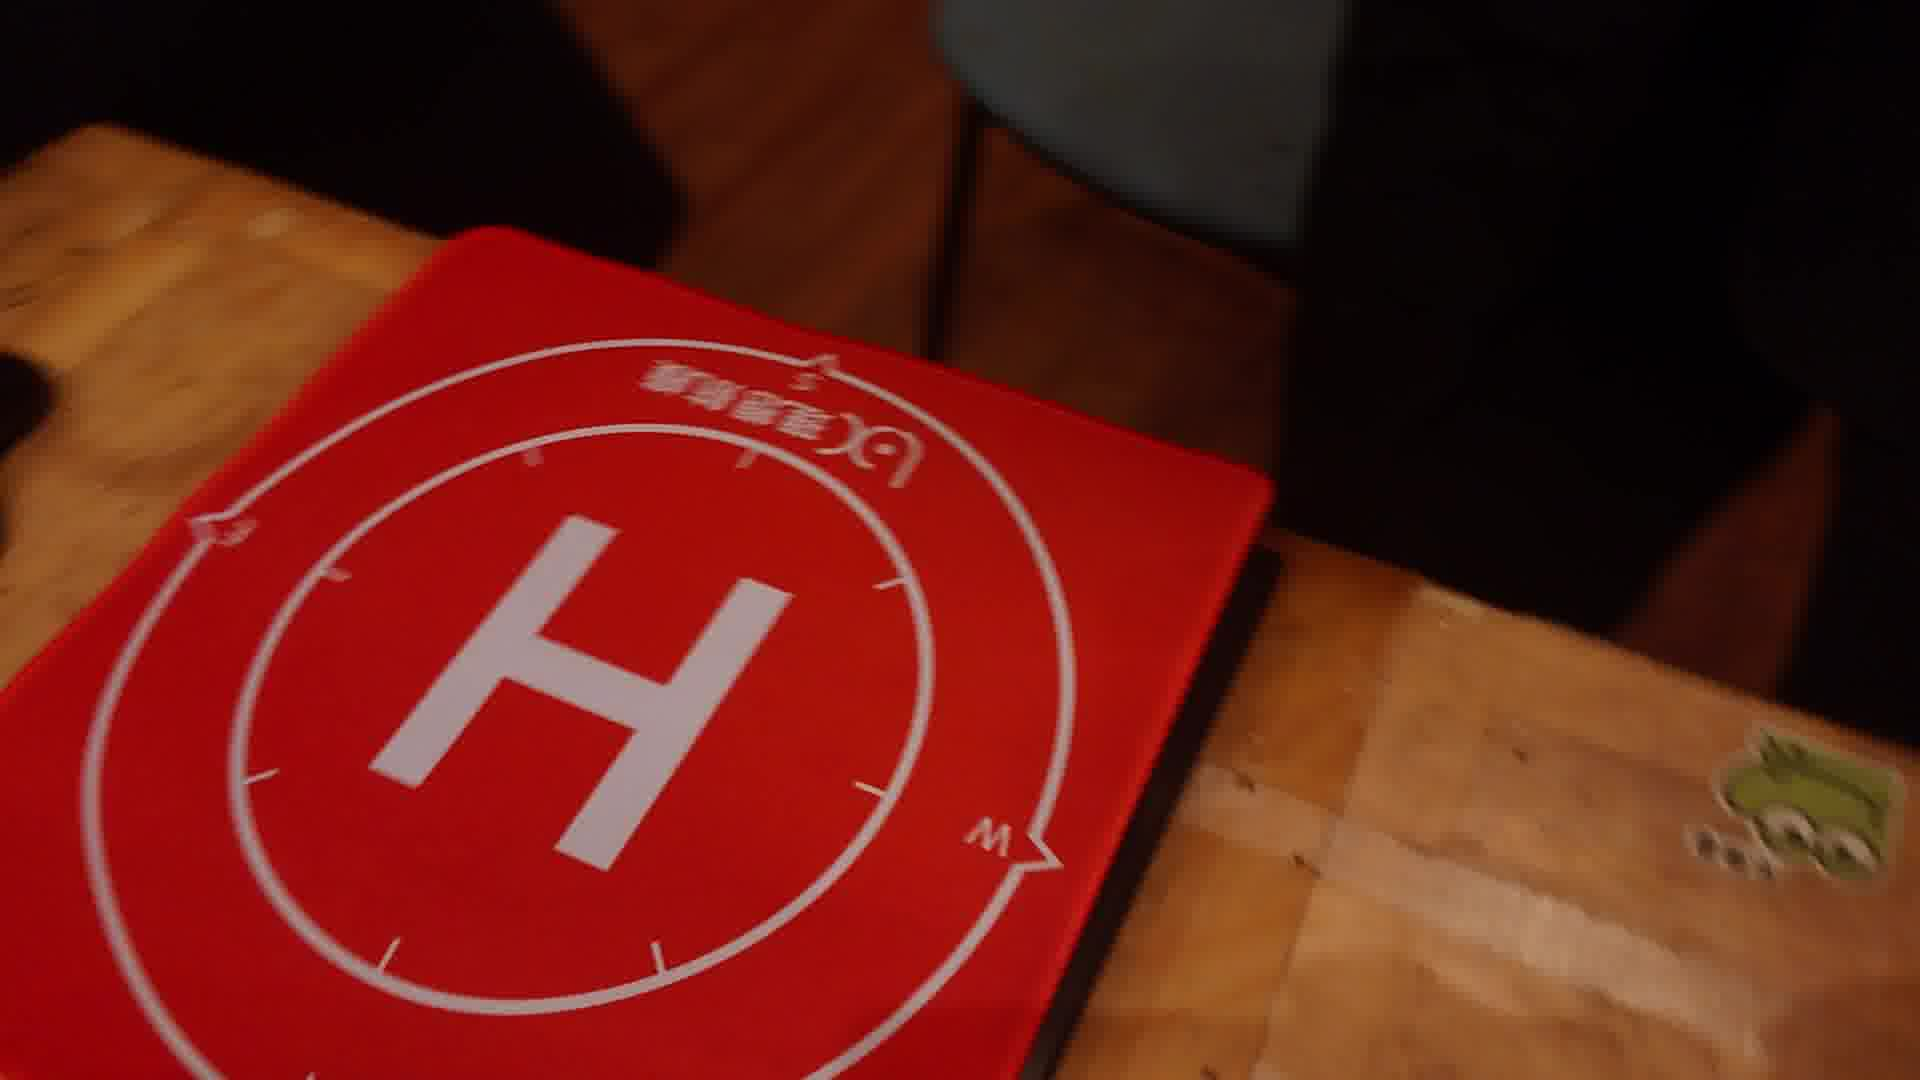H: (372, 514, 796, 869)
